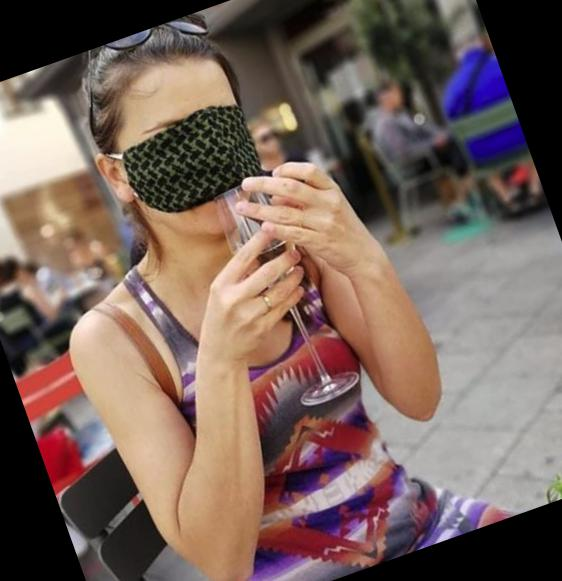mask_weared_incorrect: (108, 78, 293, 266)
without_mask: (255, 124, 280, 158), (385, 86, 403, 108)
